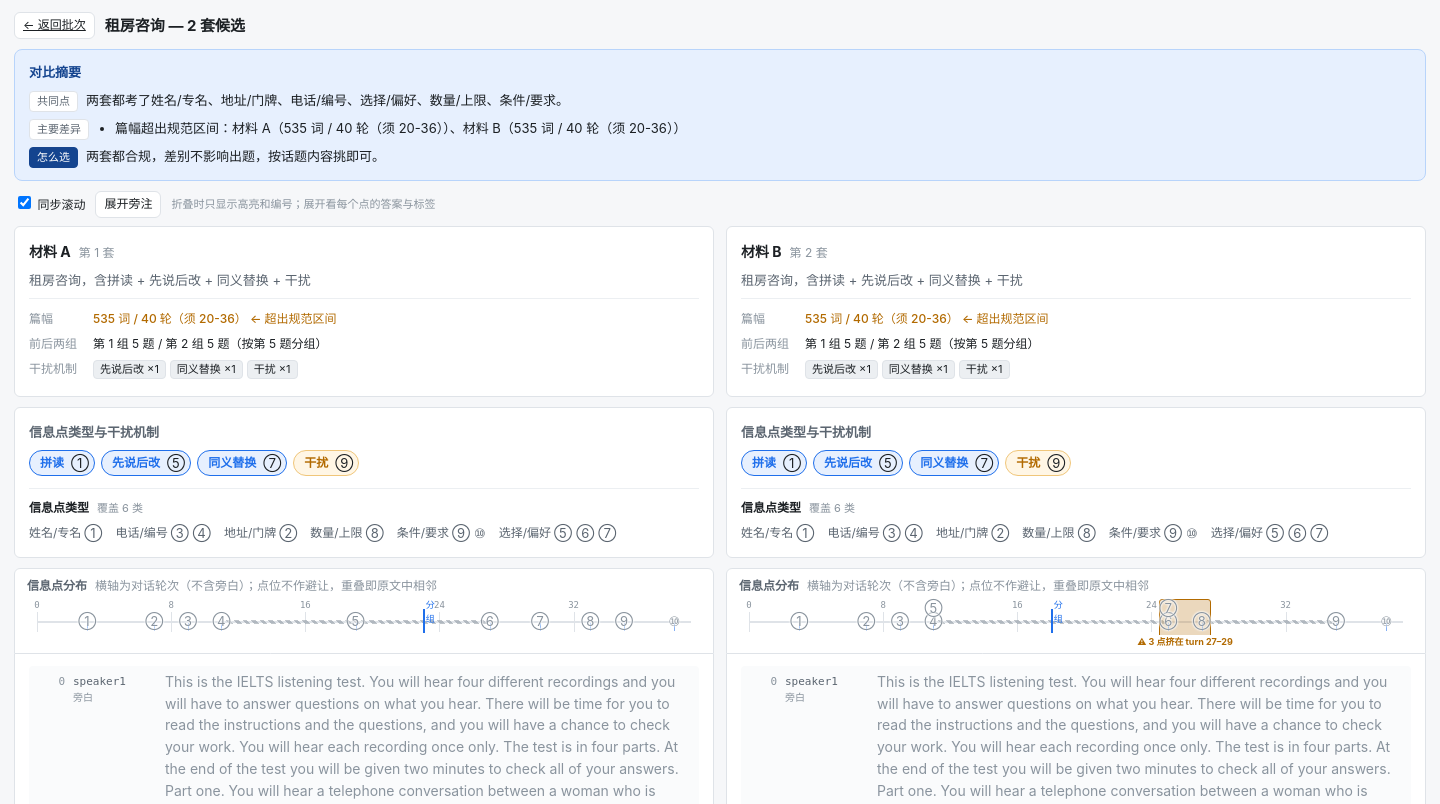
it: 展开/折叠旁注 › 点一下两侧同时展开
This screenshot has width=1440, height=804.
Step 1. Click the button "展开旁注" → (128, 204), box x1=95 y1=191 x2=161 y2=218
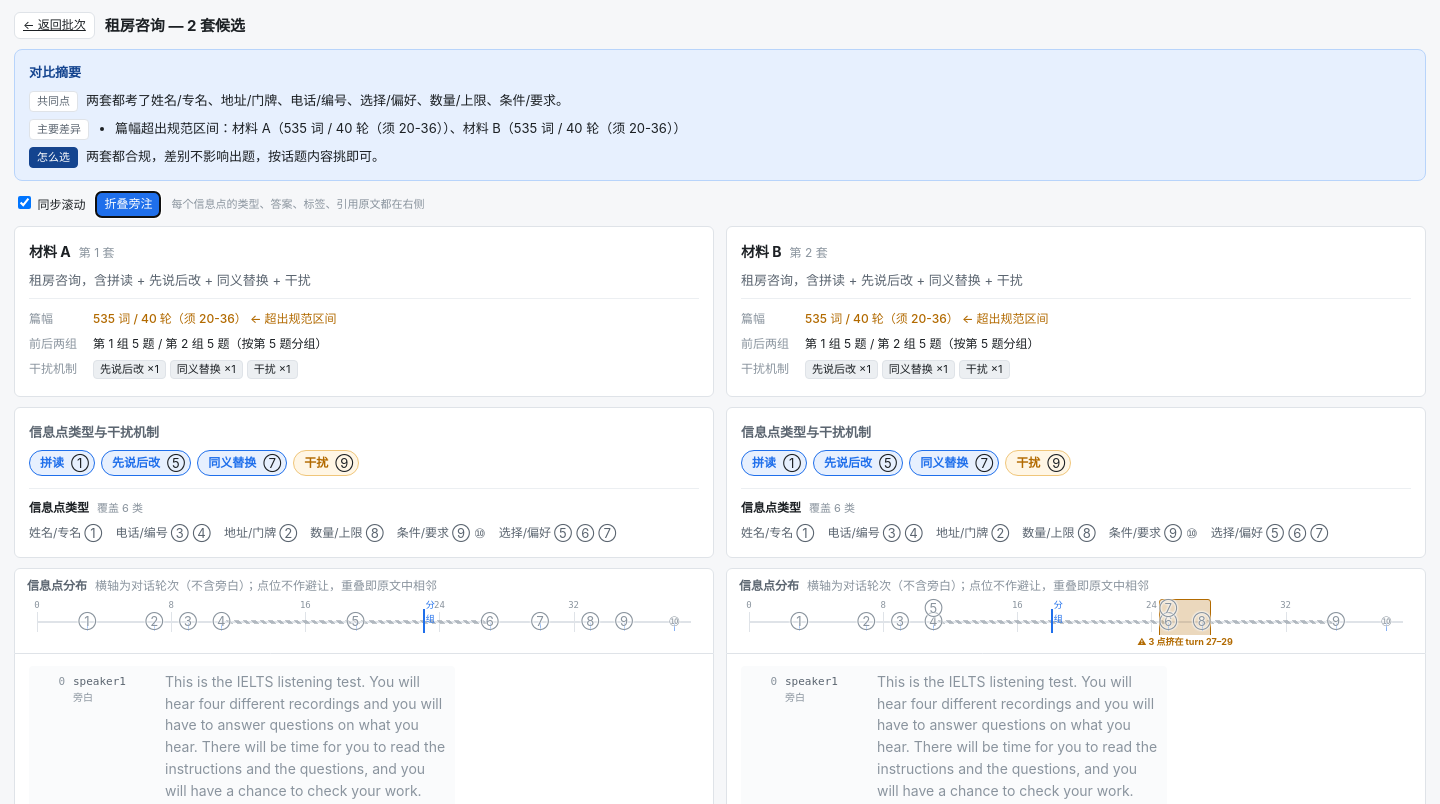
Result: the button "折叠旁注" is shown at x1=95 y1=191 x2=161 y2=218
